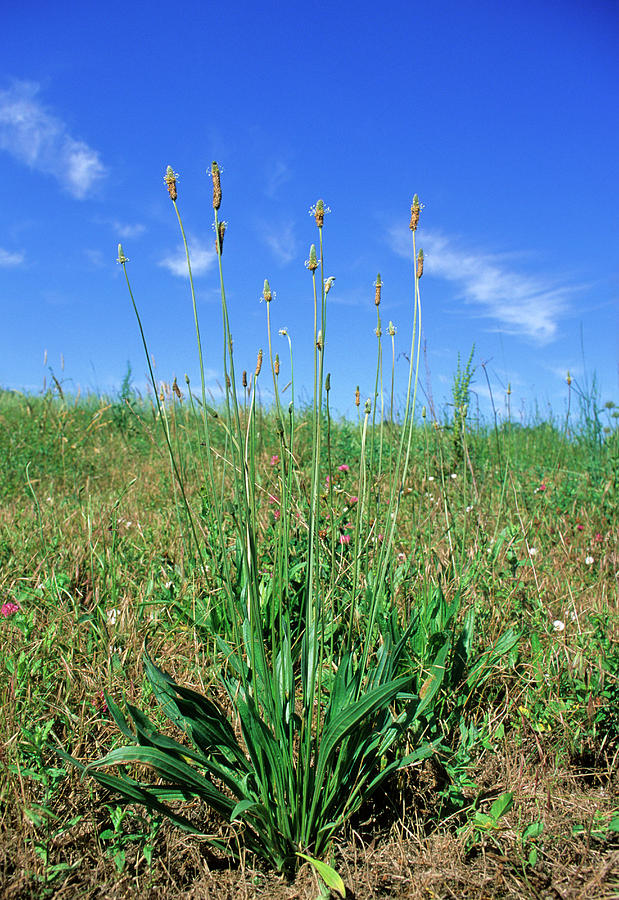buckhorn plantain: (88, 148, 446, 846)
